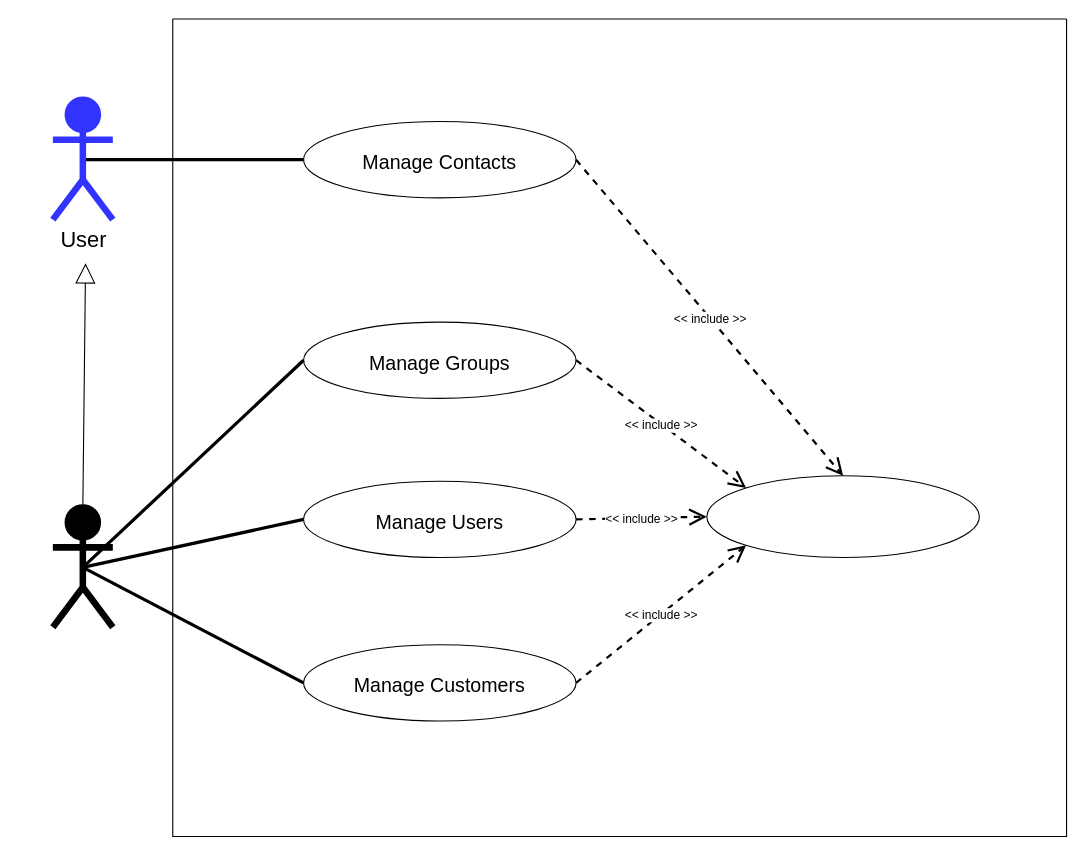
The diagram is 1086 pixels wide and 856 high, and some of its shapes have lost their labels. The box of each missing label's shape, as (x1, y1, x2, y2) in pixels:
Administrator: (49, 504, 116, 630)
To log in: (706, 475, 979, 558)
